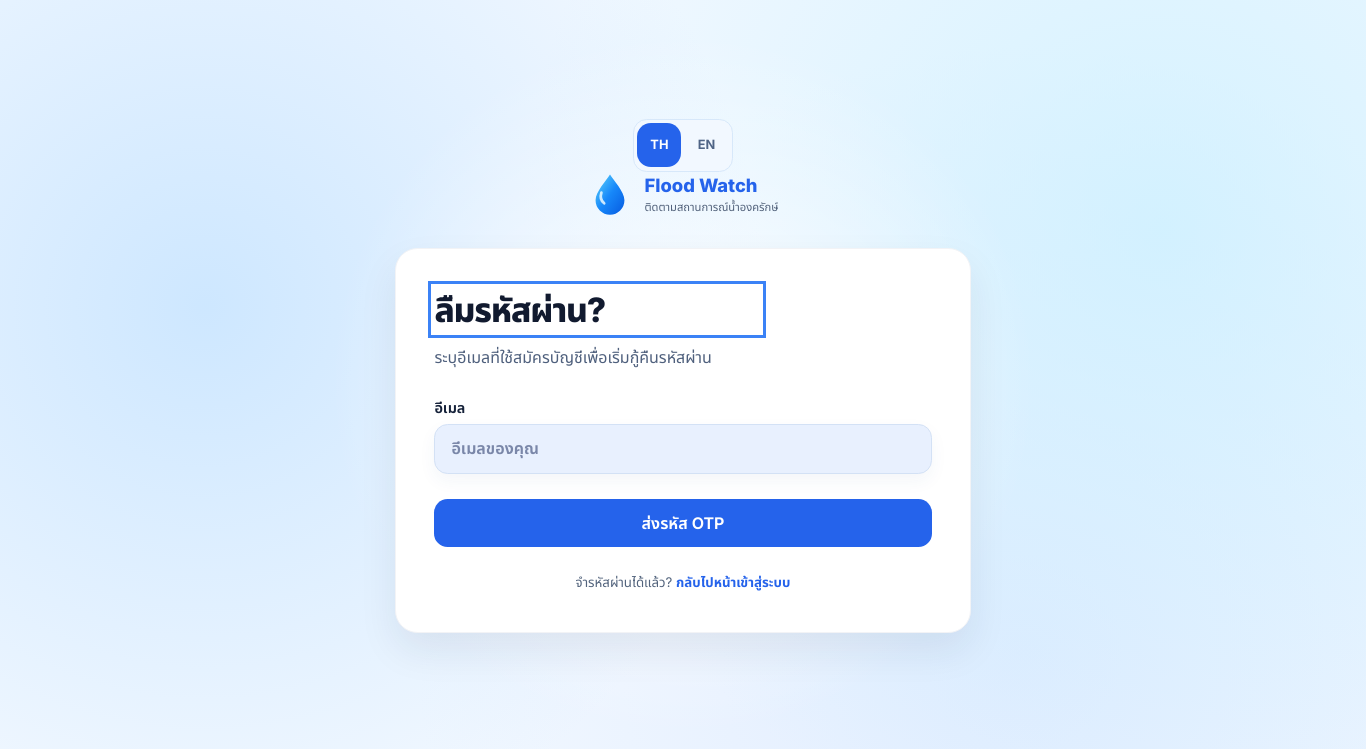
it: ForgotPasswordPage › keeps verification errors on the OTP step and maps the agreed error code
The image size is (1366, 749).
In the field labelled "อีเมล": (683, 449) [434,424,932,474], type "user@example.com"
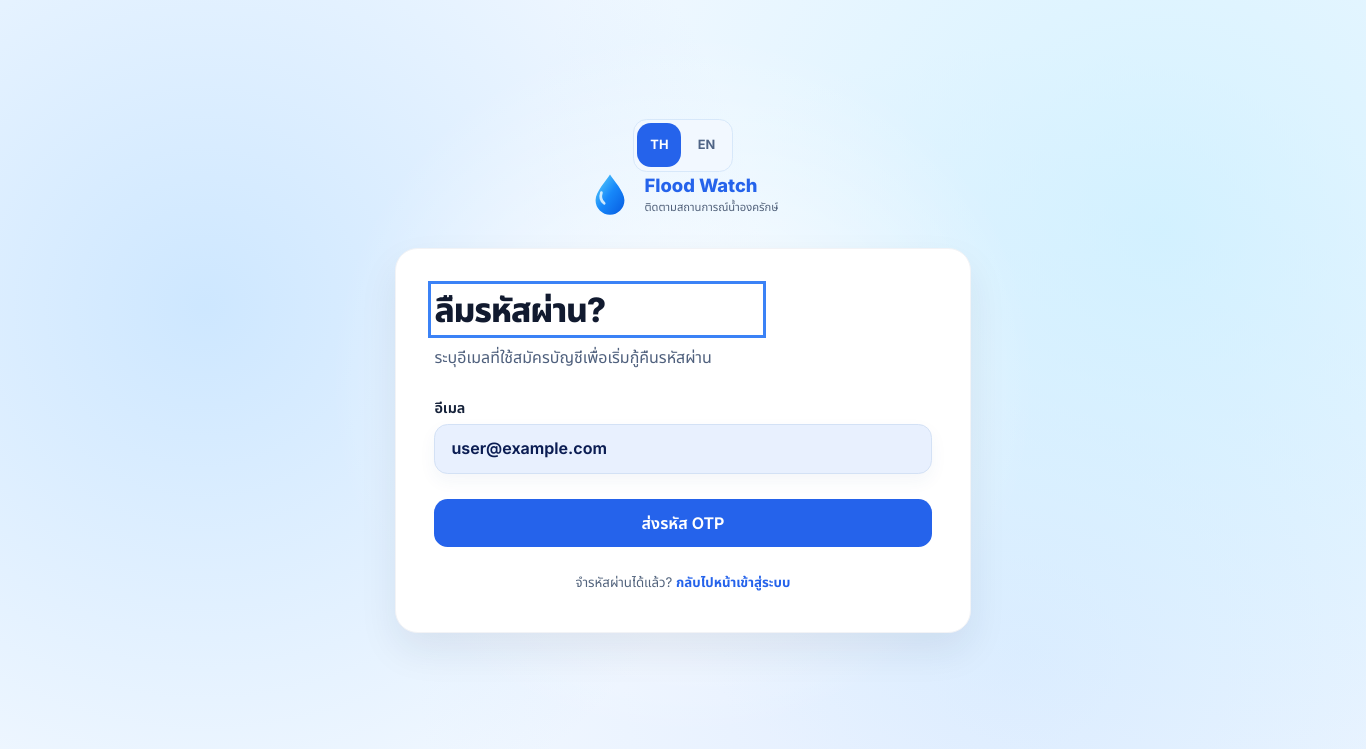
Click the button "ส่งรหัส OTP": (683, 523) [434,499,932,547]
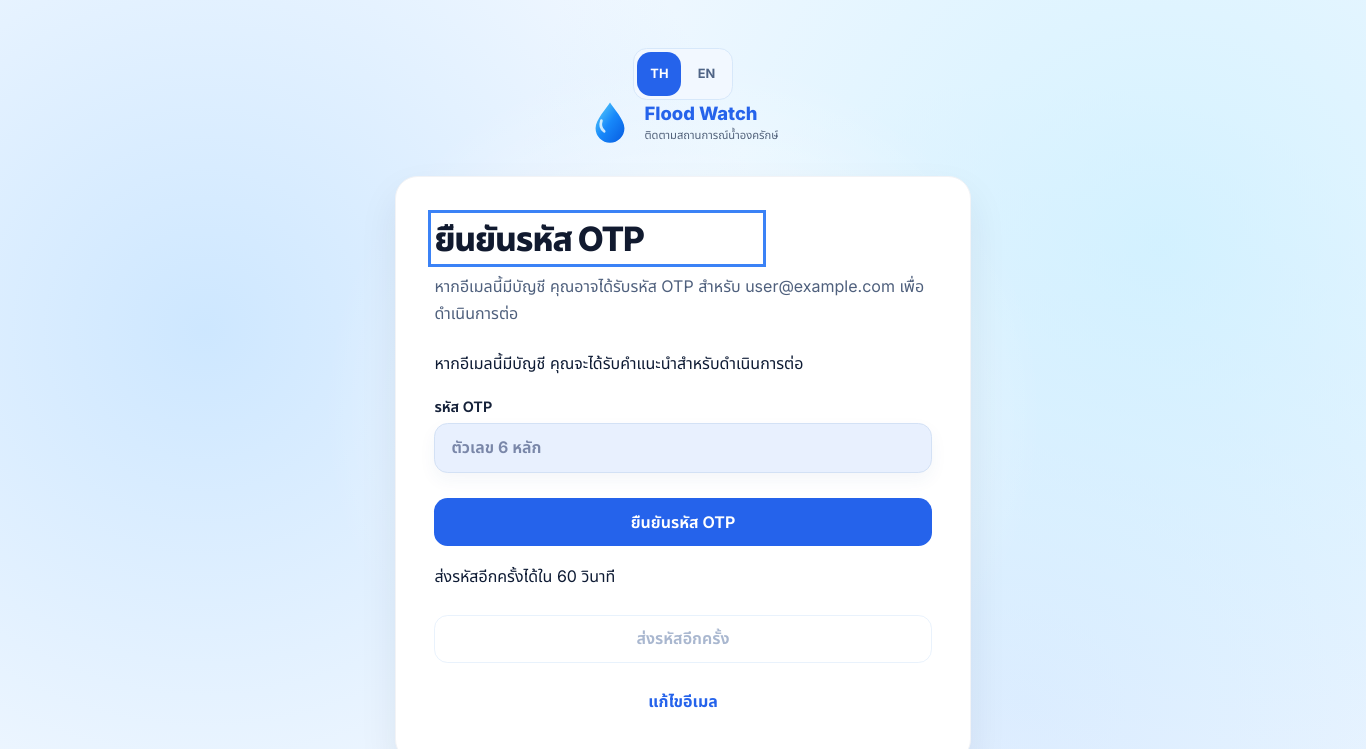
Result: the heading "ยืนยันรหัส OTP" is shown at [434,218,644,259]
In the field labelled "รหัส OTP": (683, 448) [434,423,932,473], type "123456"
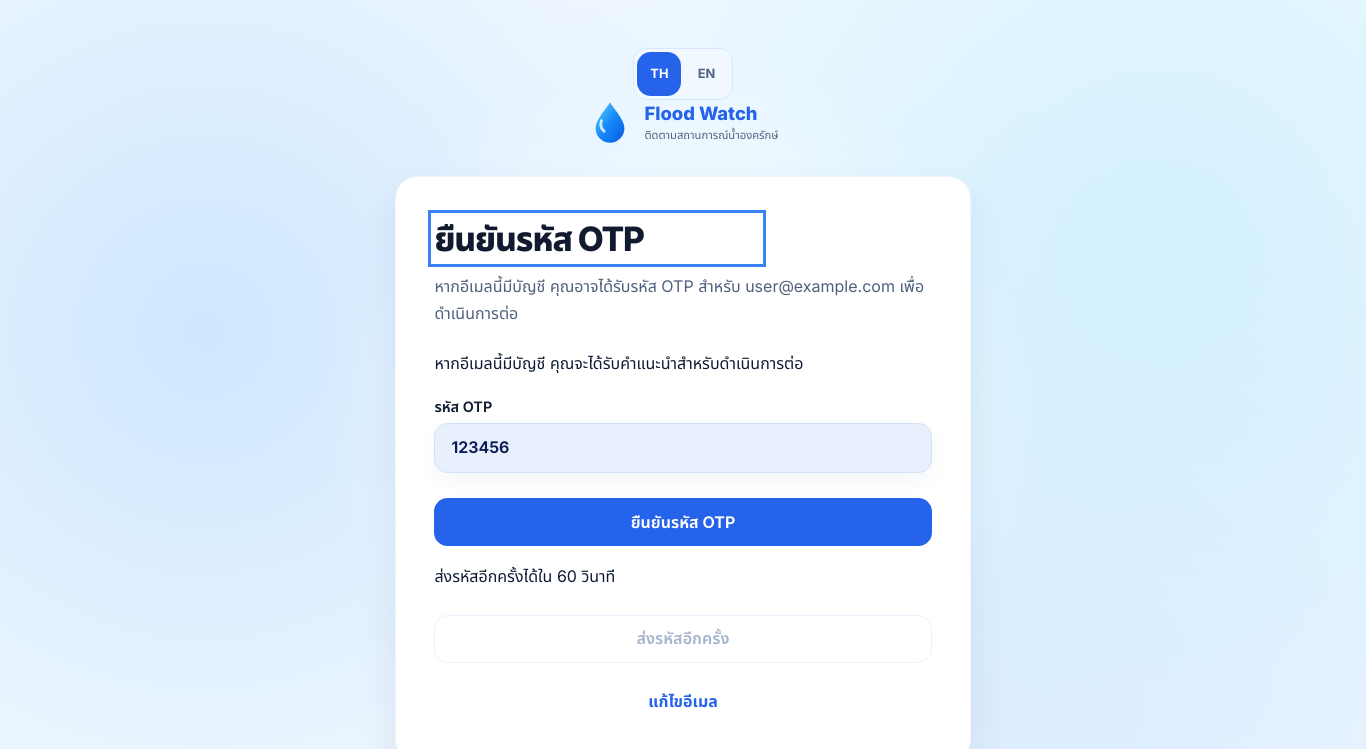
Click the button "ยืนยันรหัส OTP": (683, 522) [434,498,932,546]
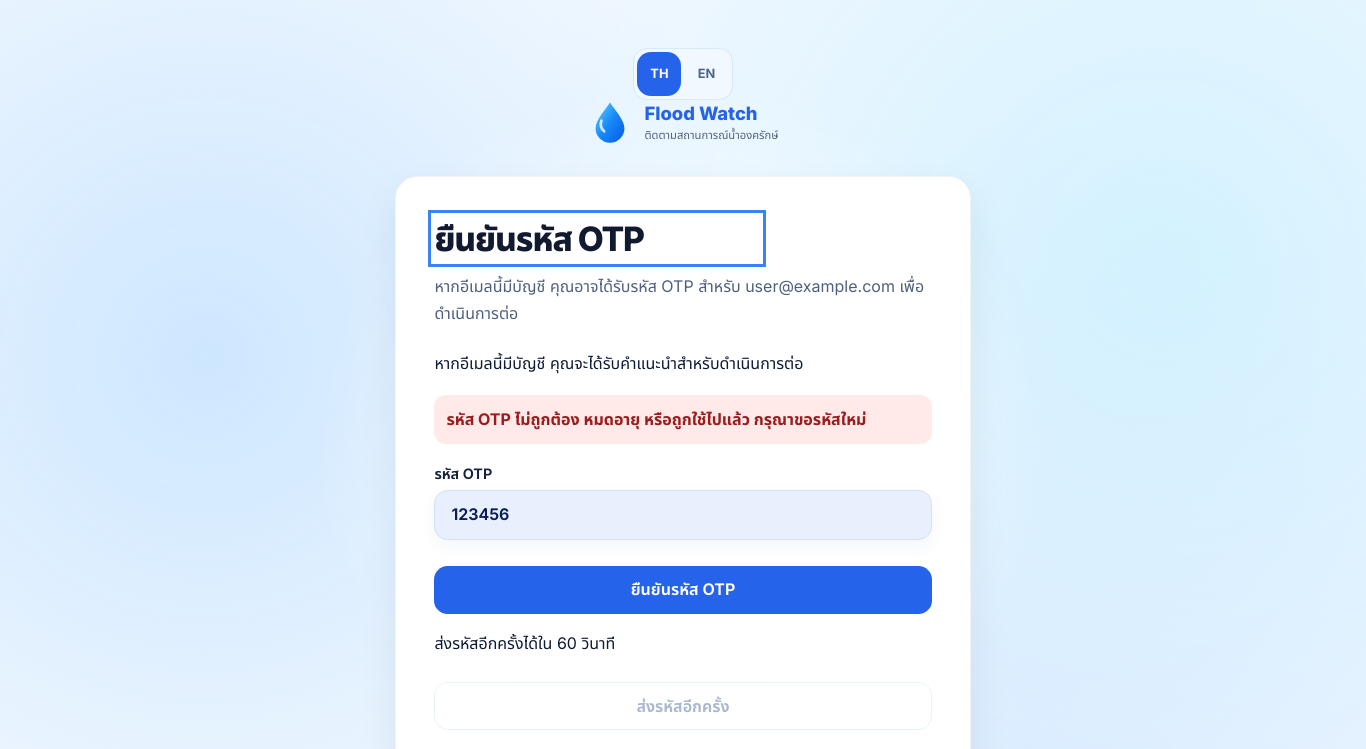
Result: the heading "ยืนยันรหัส OTP" is shown at [434,218,644,259]
Result: the message "รหัส OTP ไม่ถูกต้อง หมดอายุ หรือถูกใช้ไปแล้ว กรุณาขอรหัสใหม่" is shown at [434,395,932,444]
